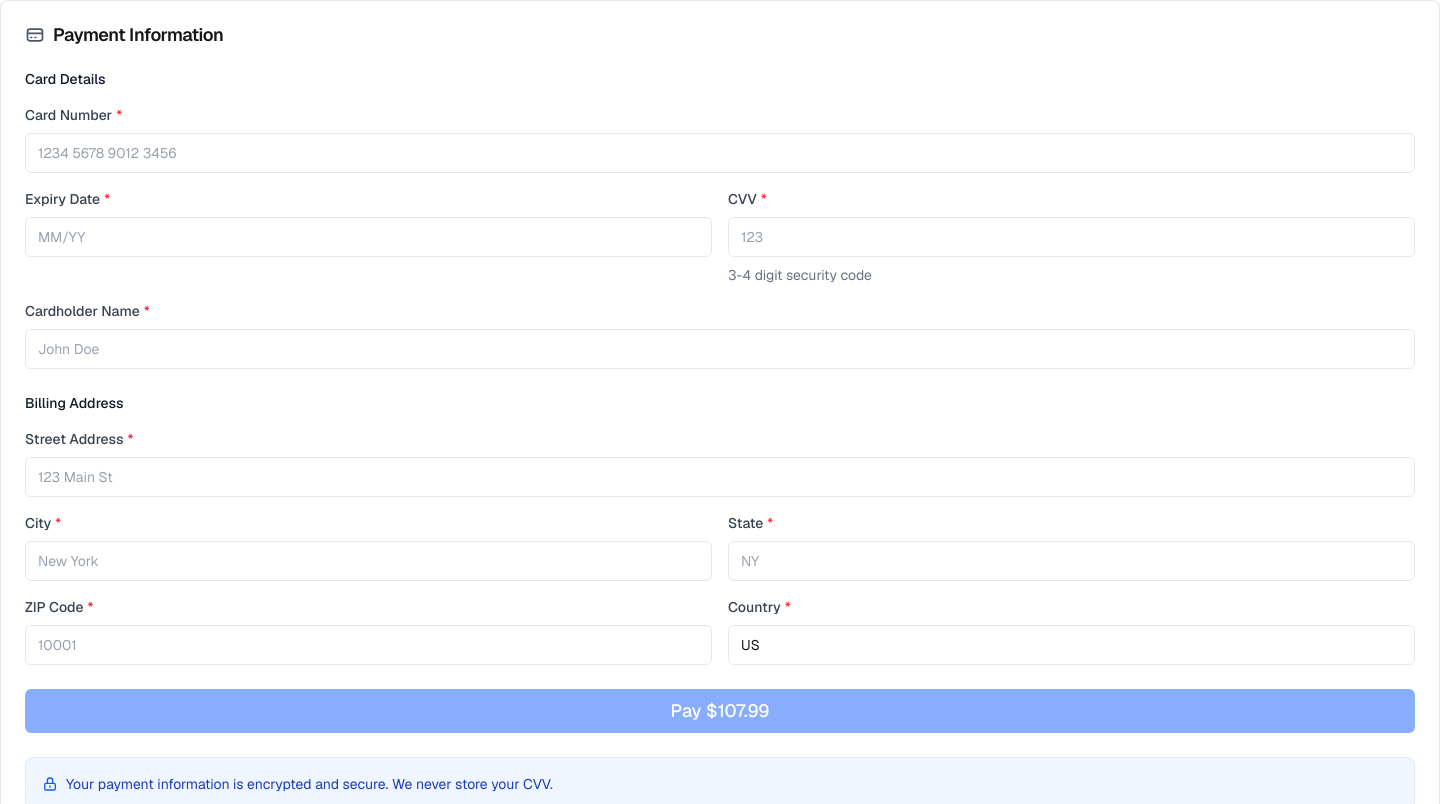
Test: PaymentForm Component › Card Type Detection › should detect and display American Express type
Type "3782" into the field labelled "Card Number*".
click(720, 153); type("3782")  # box [25, 133, 1415, 173]
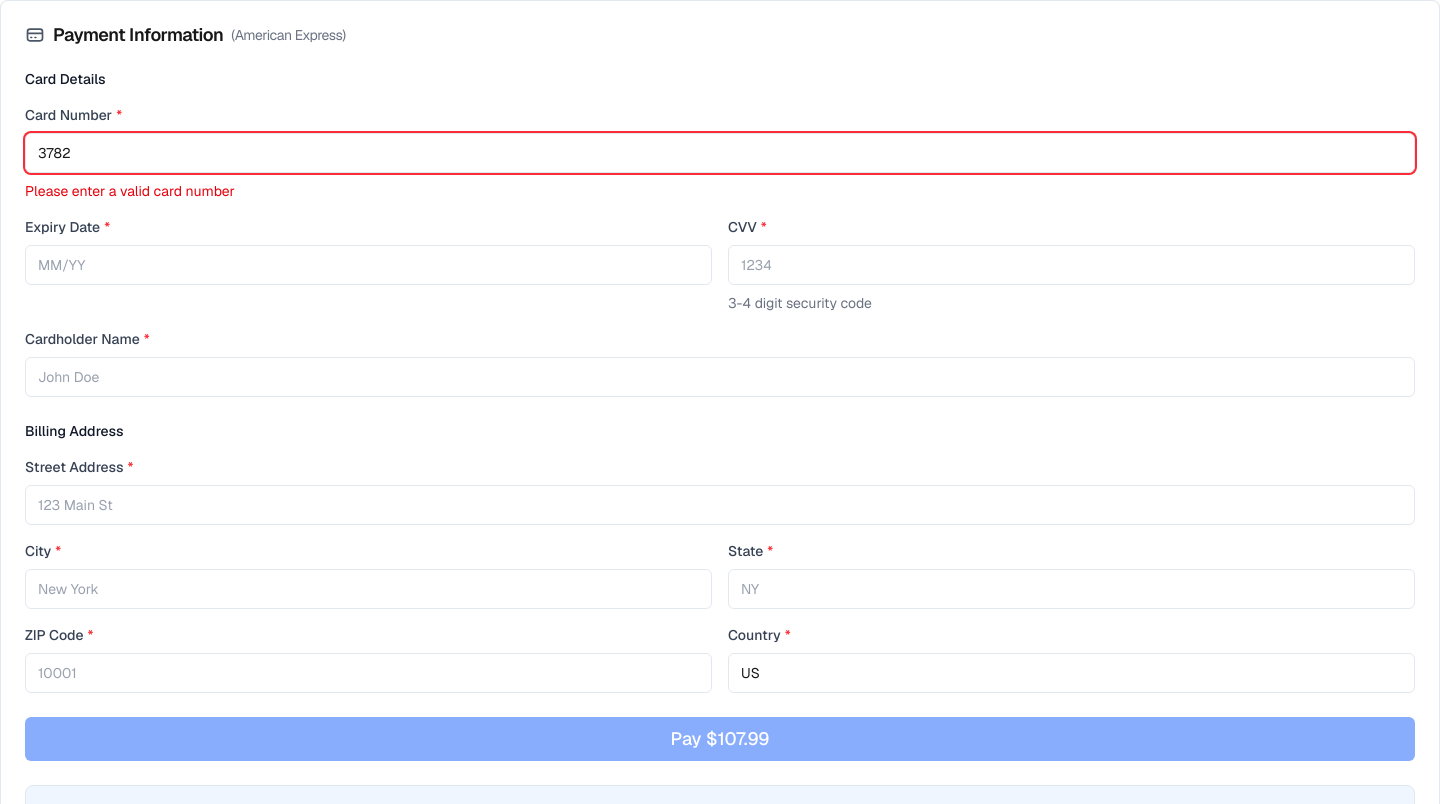
Now the text "(American Express)" is shown, box [231, 25, 346, 45]
